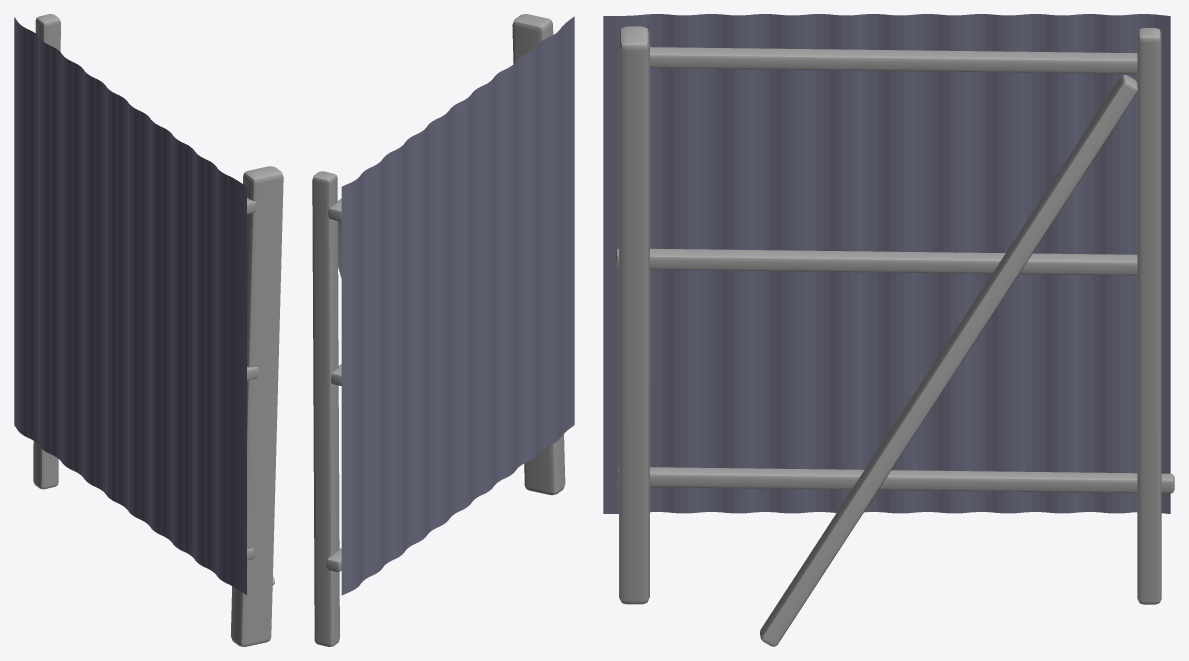
Rendered from corrugatedFence.fbx.
3 views of the same model, side by side, from view 1: azimuth 30°, elevation 25°; view 2: azimuth 150°, elevation 25°; view 3: azimuth 270°, elevation 25° (orthographic). The views are drawn at different scales.
Parts seen in each view (by area): view 1: corrugatedPanel, wood; view 2: corrugatedPanel, wood; view 3: corrugatedPanel, wood.
Part boxes in pixels (bbox=[...]): corrugatedPanel: bbox=[14, 17, 246, 595]; wood: bbox=[33, 14, 283, 646]; corrugatedPanel: bbox=[341, 16, 574, 595]; wood: bbox=[312, 14, 565, 646]; corrugatedPanel: bbox=[603, 14, 1170, 513]; wood: bbox=[615, 26, 1174, 646].
Bounding box in the file's own units: 41.99 × 194 × 174.
